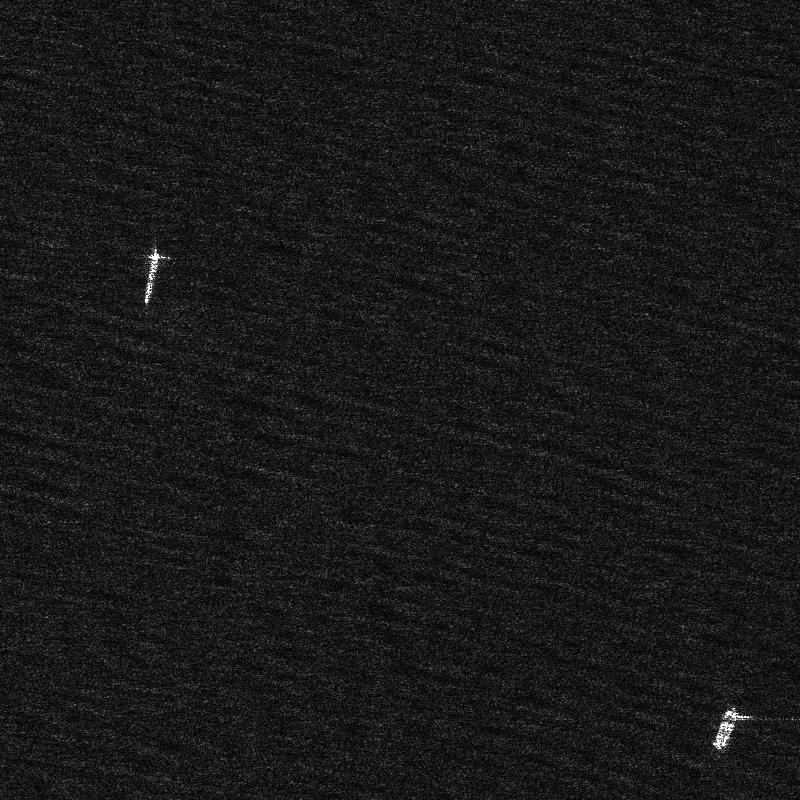ship: (712, 707, 738, 750), (143, 251, 159, 305)
